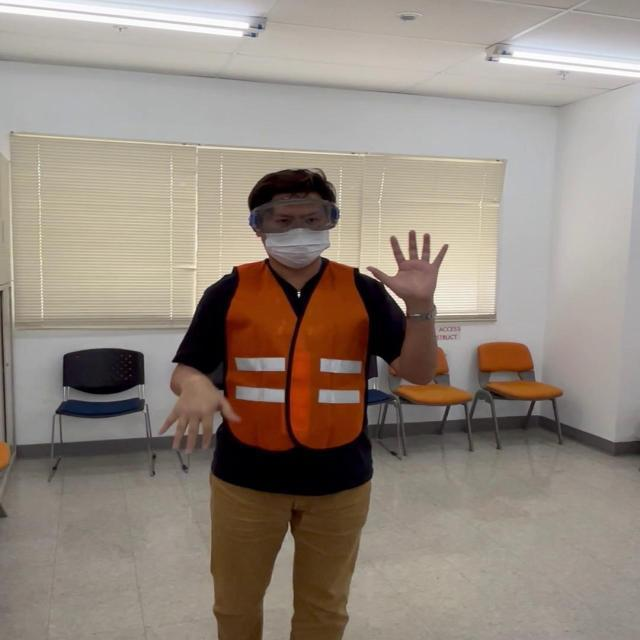bare_hand: (153, 371, 239, 456), (364, 229, 452, 306)
